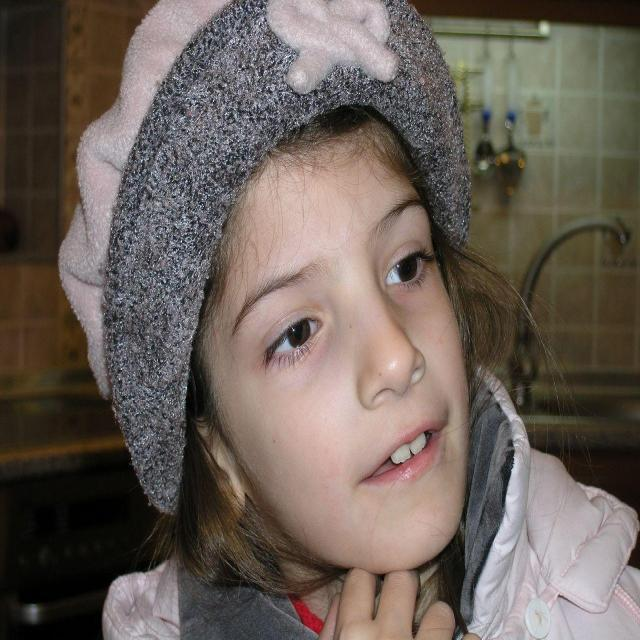no-glass: (263, 245, 427, 363)
